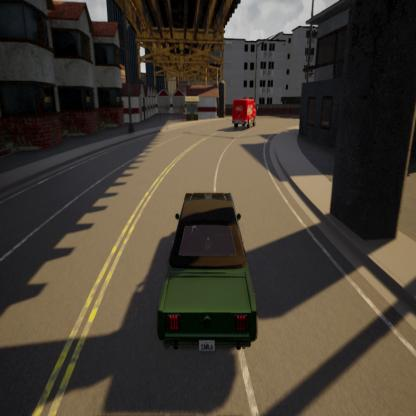Cars: (144, 142, 276, 373), (221, 74, 273, 146)
